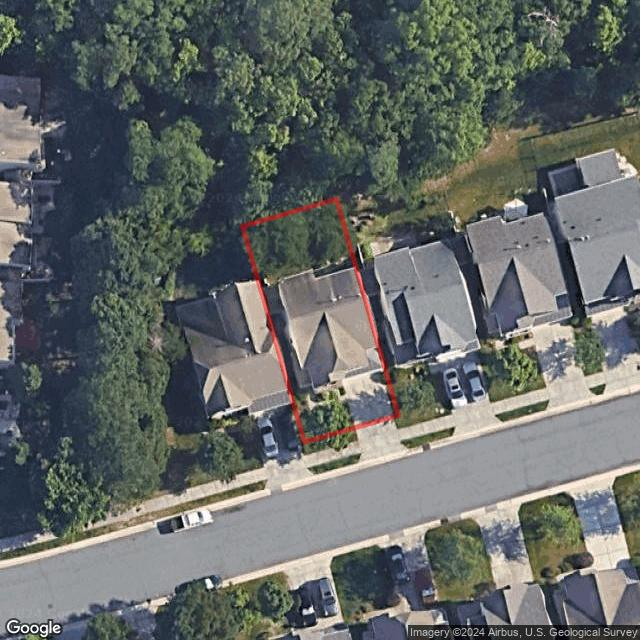Driveway: (343, 370, 392, 427)
Extra-Driveway: (356, 416, 415, 470)
Extra-Lawn: (306, 428, 358, 454), (315, 453, 361, 474), (393, 414, 404, 430), (400, 439, 414, 449)
Extra-Sidewalk: (310, 440, 361, 465), (398, 428, 410, 442)
House: (278, 267, 383, 394)
Lawn: (242, 199, 399, 441)
Other: (310, 388, 345, 402)
Sidewalk: (305, 388, 349, 409)
